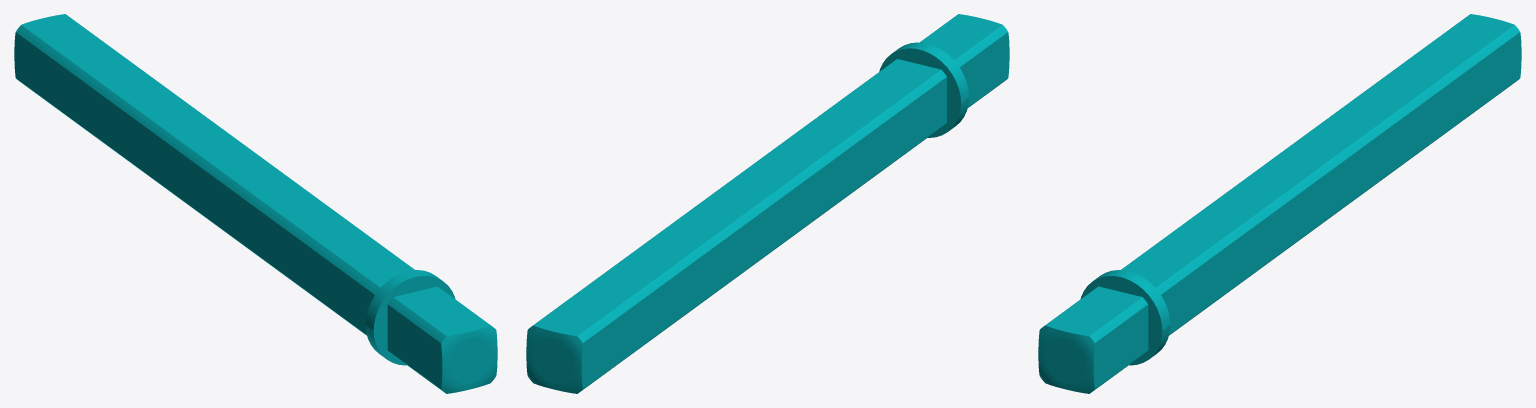
Rendered from 3x Pitch Plastic Motor Shaft (228-2500-094).glb.
The picture shows the model from 3 angles, left to right: view 1: azimuth 30°, elevation 25°; view 2: azimuth 150°, elevation 25°; view 3: azimuth 330°, elevation 25°; orthographic projection.
Parts seen in each view (by area): view 1: 3x Pitch Plastic Motor Shaft (228-2500-094); view 2: 3x Pitch Plastic Motor Shaft (228-2500-094); view 3: 3x Pitch Plastic Motor Shaft (228-2500-094).
Boxes of the visible parts, bbox=[...] form: 3x Pitch Plastic Motor Shaft (228-2500-094): bbox=[14, 14, 497, 393]; 3x Pitch Plastic Motor Shaft (228-2500-094): bbox=[526, 14, 1009, 393]; 3x Pitch Plastic Motor Shaft (228-2500-094): bbox=[1038, 14, 1521, 393].
Bounding box in the file's own units: 0.189 × 0.1883 × 1.68.
